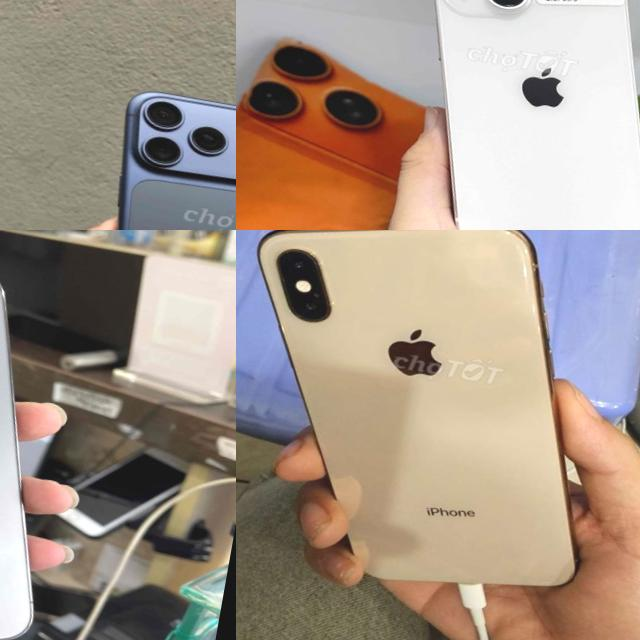gen_12_13: (377, 0, 640, 230), (0, 230, 97, 640)
gen_17: (66, 72, 236, 230)
gen_x_xs: (258, 230, 576, 585)
